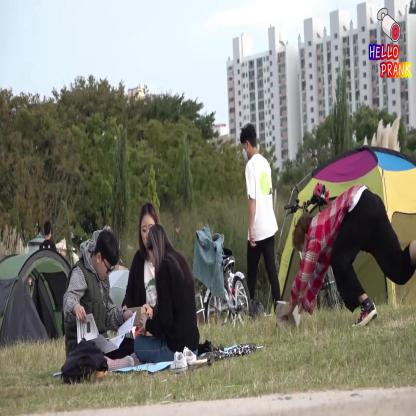Fall_Down: (276, 183, 415, 329)
